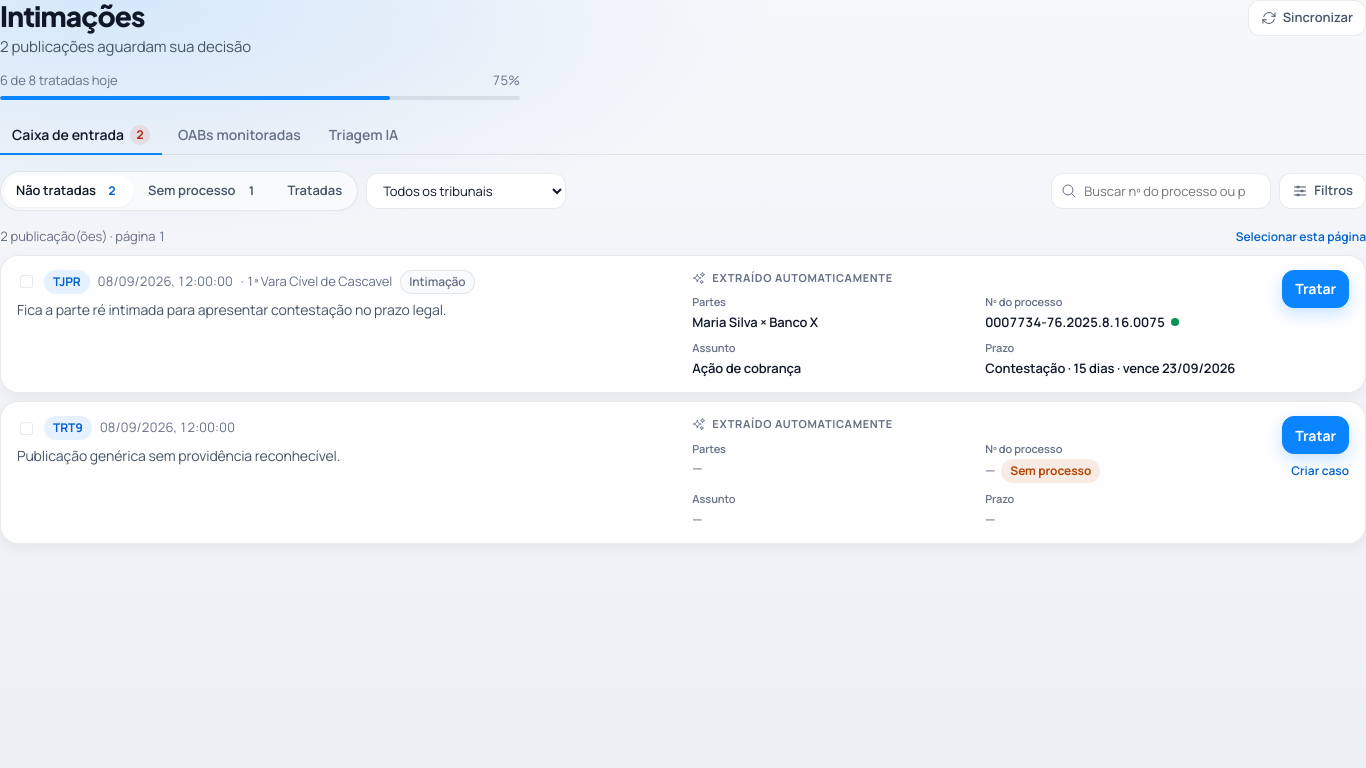
Scenario: DjenPage — Intimações (redesign Stitch) › toolbar tem só três coisas: pills, tribunal e busca — o resto no popover
Expected: the element with test id "djen-categorias" is shown, [0,171,358,211]
Expected: the number of tabs is 3, [4,175,134,207]; [136,175,274,207]; [276,175,354,207]
What coordinates should you click on to do the following:
click the button with test id "btn-filtros"
I would click on:
 (1323, 191)
Its box is [1279,173,1365,209].
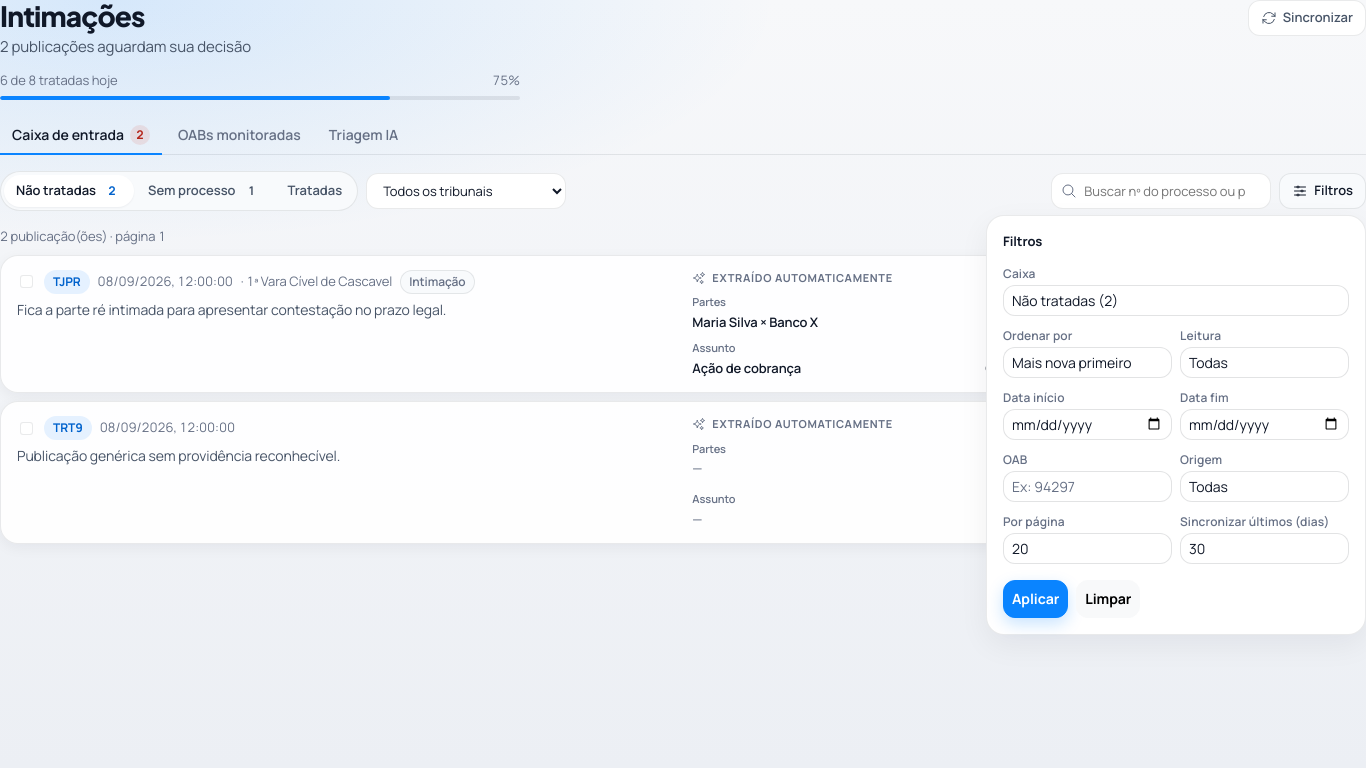
Expected: the dropdown labelled "Ordenar por" is shown, [1003,347,1172,378]
Expected: the dropdown labelled "Leitura" is shown, [1180,347,1349,378]
Expected: the date field labelled "Data início" is shown, [1003,409,1172,440]
